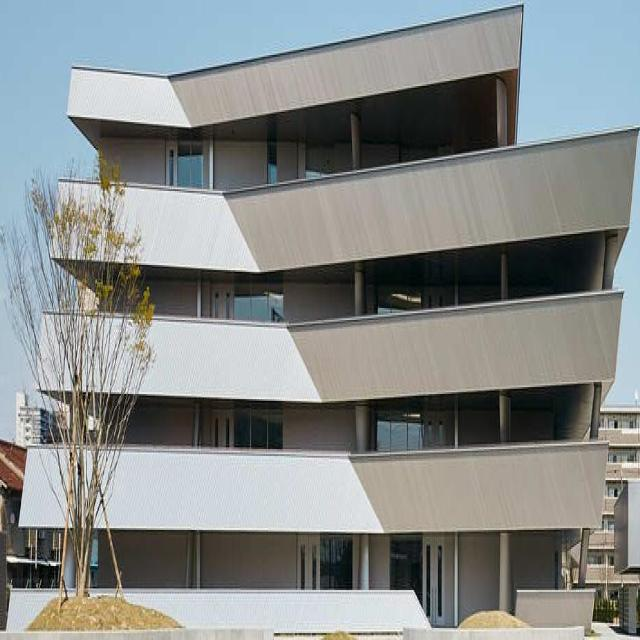door: (423, 537, 444, 630)
window: (210, 277, 283, 327), (210, 404, 283, 451), (296, 533, 353, 591), (376, 406, 447, 449), (389, 534, 423, 610), (165, 143, 203, 191), (377, 285, 443, 310), (304, 140, 335, 178), (267, 143, 277, 186)
